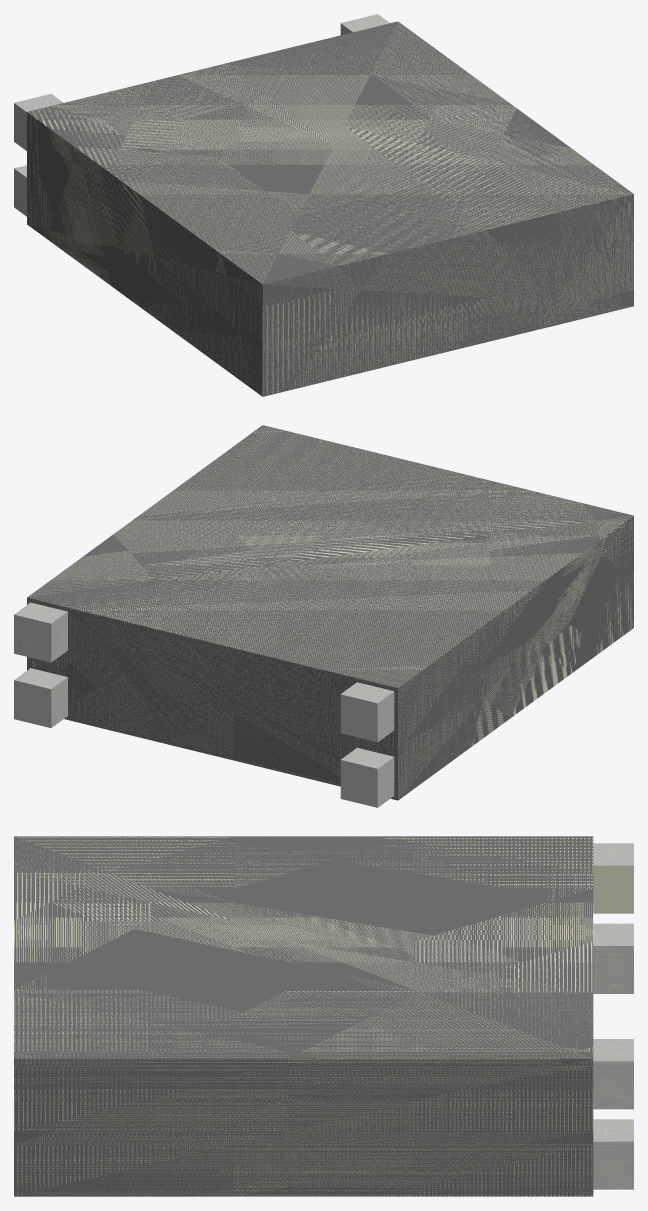
The picture shows the model from 3 angles, top to bottom: view 1: azimuth 30°, elevation 25°; view 2: azimuth 150°, elevation 25°; view 3: azimuth 270°, elevation 25°; orthographic projection. The views are drawn at different scales.
Visible parts, largest first — view 1: book shelf; view 2: book shelf; view 3: book shelf.
Boxes of the visible parts, box(x1,y1,x2,y2) form: book shelf: box(14, 14, 633, 396); book shelf: box(14, 425, 633, 807); book shelf: box(14, 836, 633, 1196).
Bounding box in the file's own units: 39.21 × 11.34 × 46.18.
